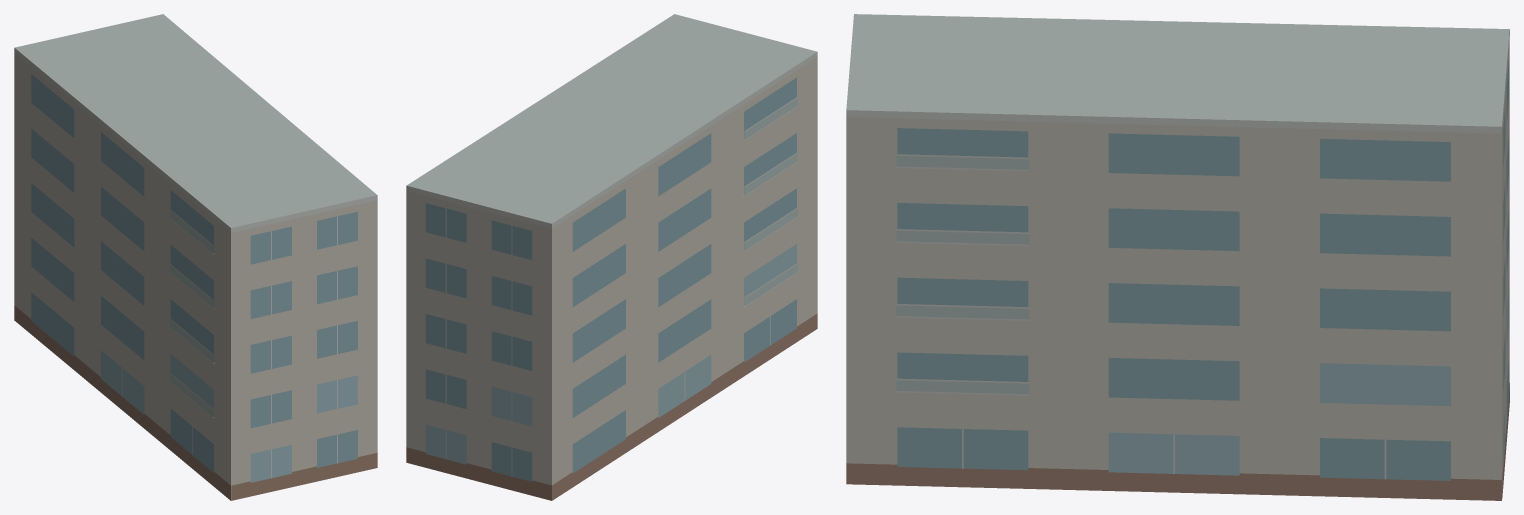
The model's file is survey-upis-32658131.glb.
The picture shows the model from 3 angles, left to right: view 1: azimuth 30°, elevation 25°; view 2: azimuth 150°, elevation 25°; view 3: azimuth 270°, elevation 25°; orthographic projection. The views are drawn at different scales.
Visible parts, largest first — view 1: survey-upis-32658131.tmp; view 2: survey-upis-32658131.tmp; view 3: survey-upis-32658131.tmp.
Part boxes in pixels (<box>): survey-upis-32658131.tmp: <box>14,14,377,500</box>; survey-upis-32658131.tmp: <box>406,14,817,500</box>; survey-upis-32658131.tmp: <box>846,14,1509,500</box>.
Size of the model in its own units: 8.55 by 13.2 by 21.23.
